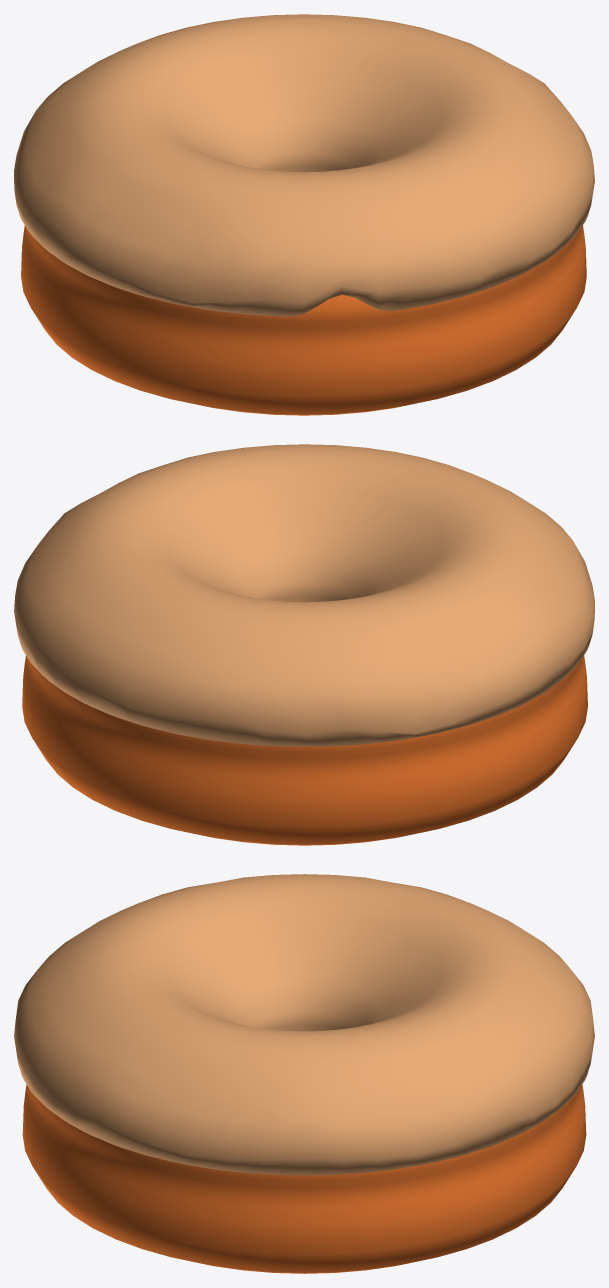
The model's file is maple_frosted.fbx.
3 views of the same model, one above another, from view 1: azimuth 30°, elevation 25°; view 2: azimuth 150°, elevation 25°; view 3: azimuth 270°, elevation 25° (orthographic).
Parts seen in each view (by area): view 1: maple frosted.002; view 2: maple frosted.002; view 3: maple frosted.002.
Boxes of the visible parts, left/top/right/bottom form: maple frosted.002: left=14, top=14, right=594, bottom=415; maple frosted.002: left=14, top=444, right=594, bottom=845; maple frosted.002: left=14, top=874, right=594, bottom=1273.
Size of the model in its own units: 254 by 108 by 254.
